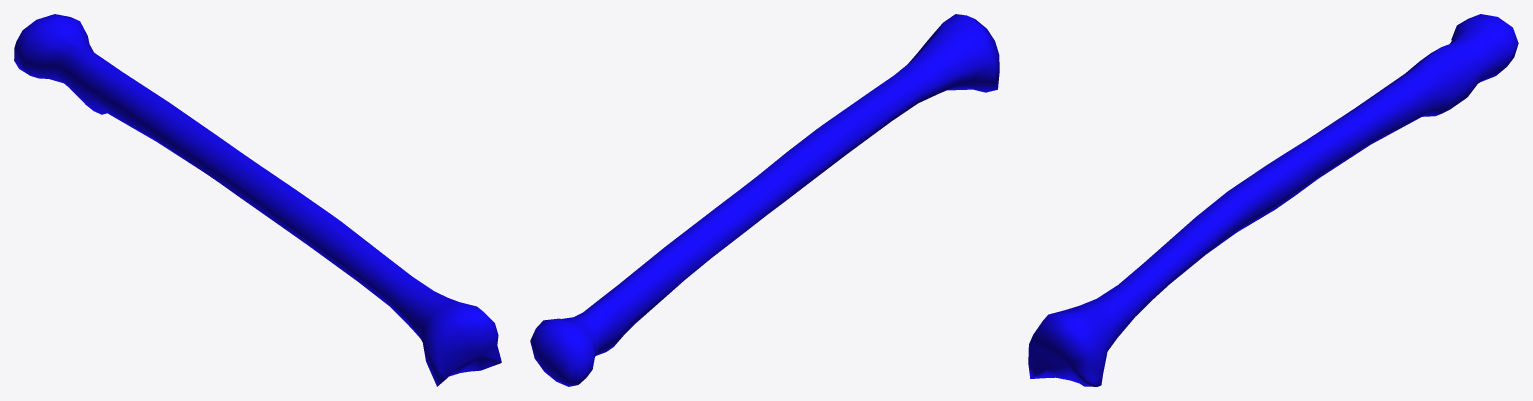
File: SM_L_Ulna.FBX
3 renders of one model, left to right at view 1: azimuth 30°, elevation 25°; view 2: azimuth 150°, elevation 25°; view 3: azimuth 330°, elevation 25°, orthographic. The views are drawn at different scales.
Parts seen in each view (by area): view 1: L_Ulna; view 2: L_Ulna; view 3: L_Ulna.
Part boxes in pixels (left/top/right/bottom): L_Ulna: left=14, top=14, right=501, bottom=386; L_Ulna: left=530, top=14, right=999, bottom=386; L_Ulna: left=1028, top=14, right=1518, bottom=386.
Bounding box in the file's own units: 2.73 × 2.63 × 29.69.
